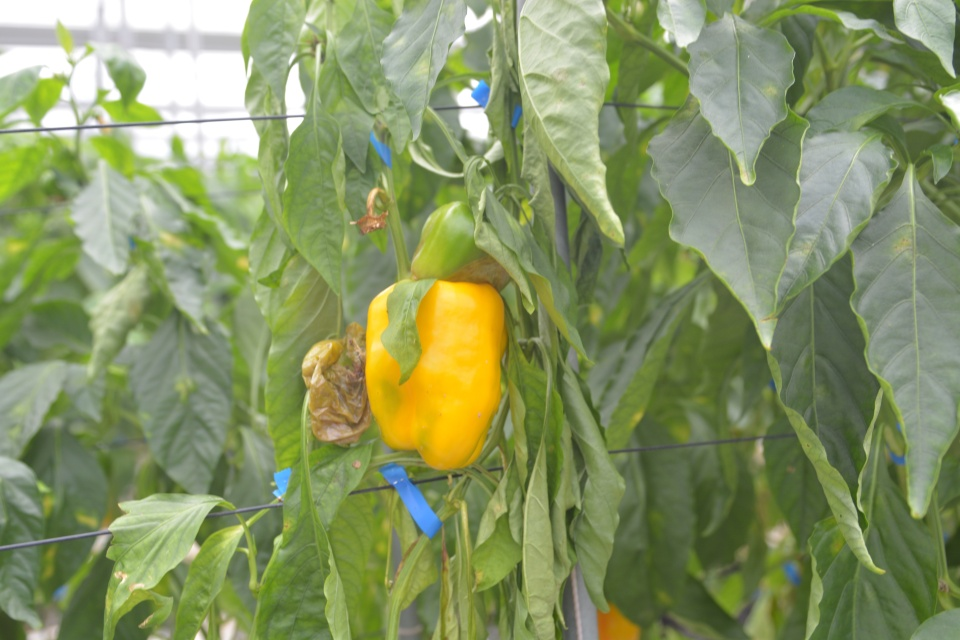fruit: (362, 275, 510, 473)
immature: (408, 198, 488, 284)
